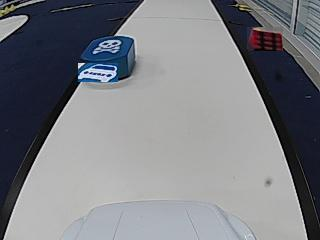danger: (92, 39, 120, 54)
